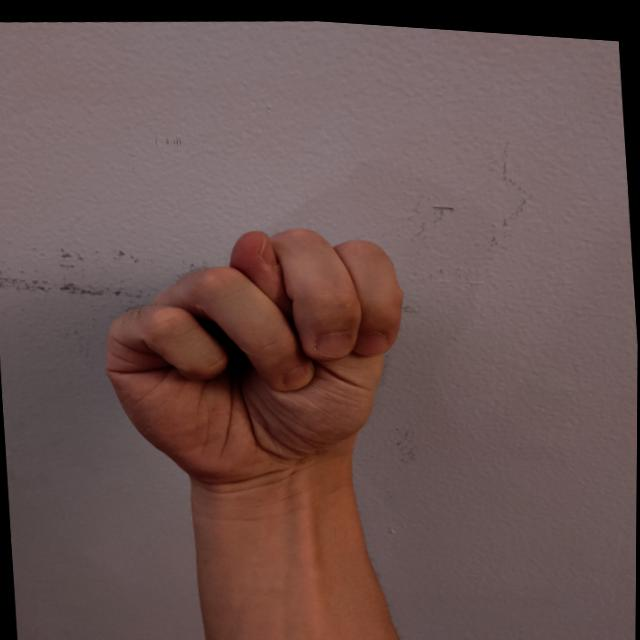N: (83, 199, 425, 503)
